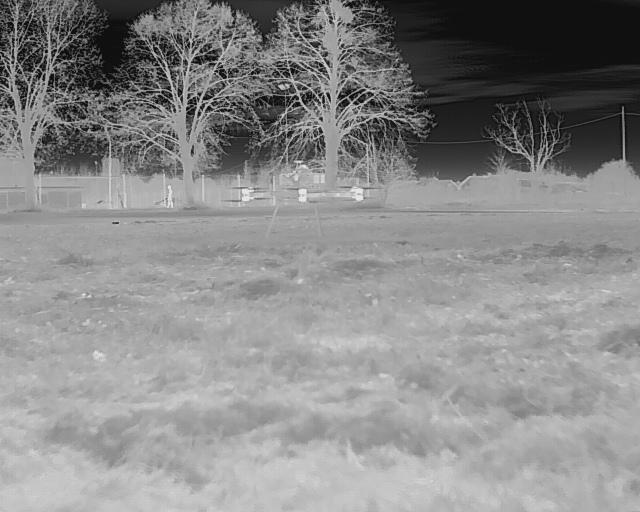drone: (203, 166, 386, 252)
